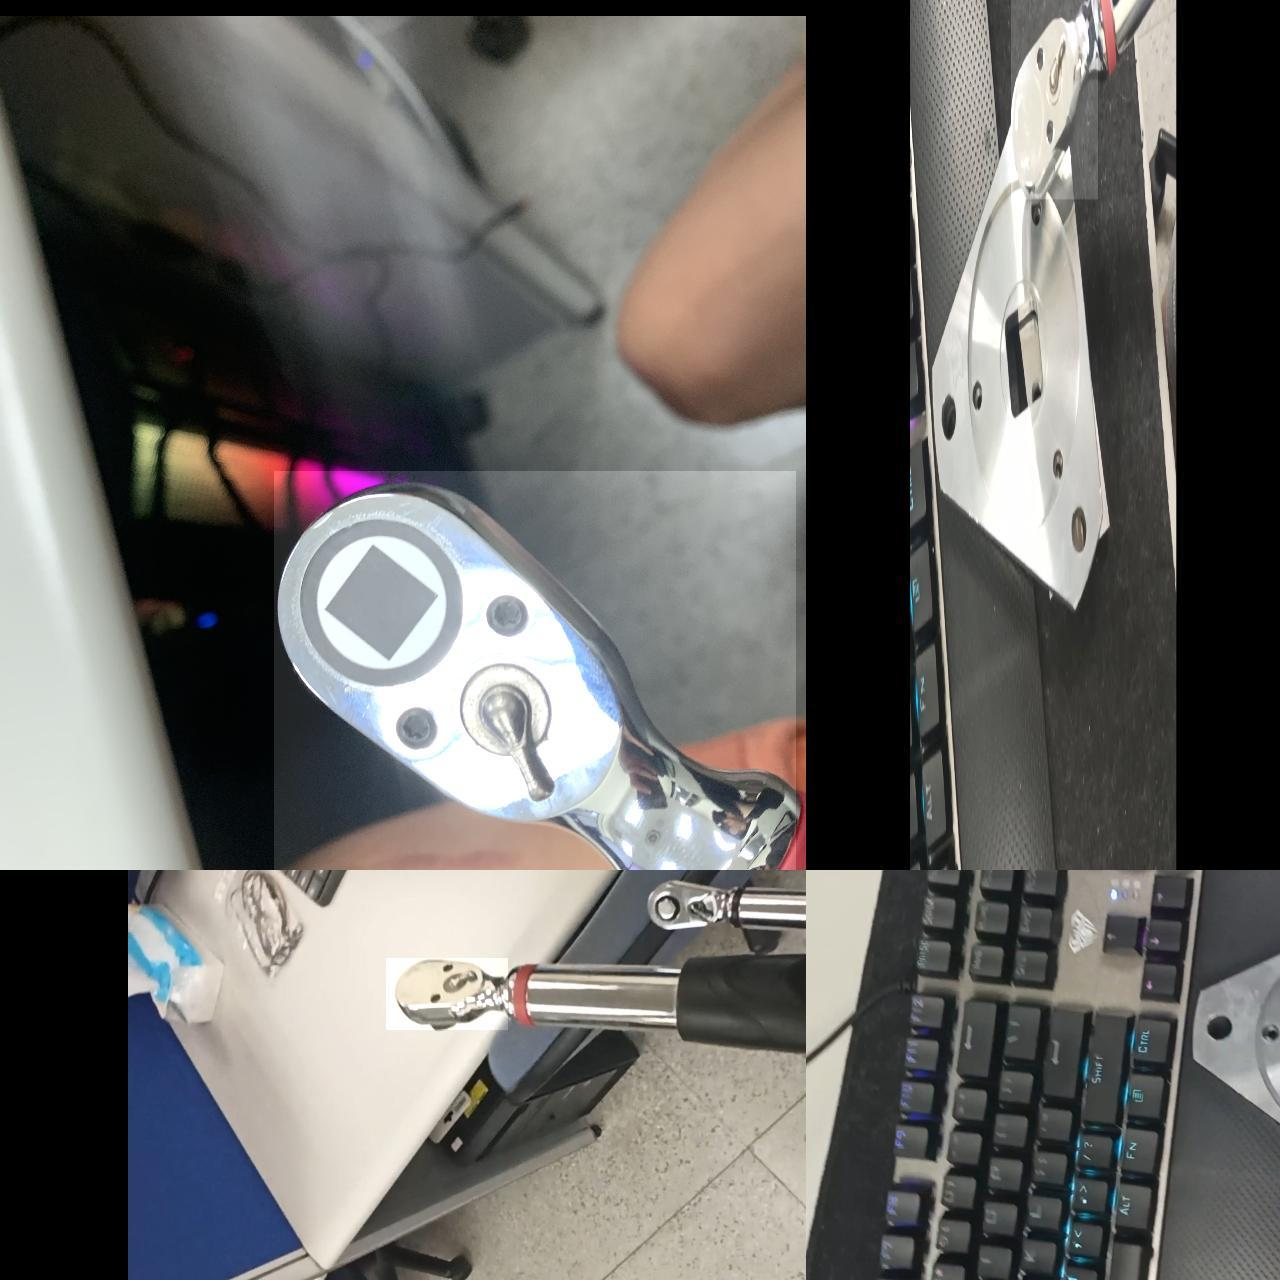Tool: (274, 470, 796, 870), (1010, 0, 1098, 198), (386, 957, 508, 1029), (650, 874, 738, 936)
hole: (931, 388, 961, 446), (1066, 498, 1094, 559), (1046, 447, 1066, 484), (1026, 205, 1049, 228), (969, 381, 982, 408)
